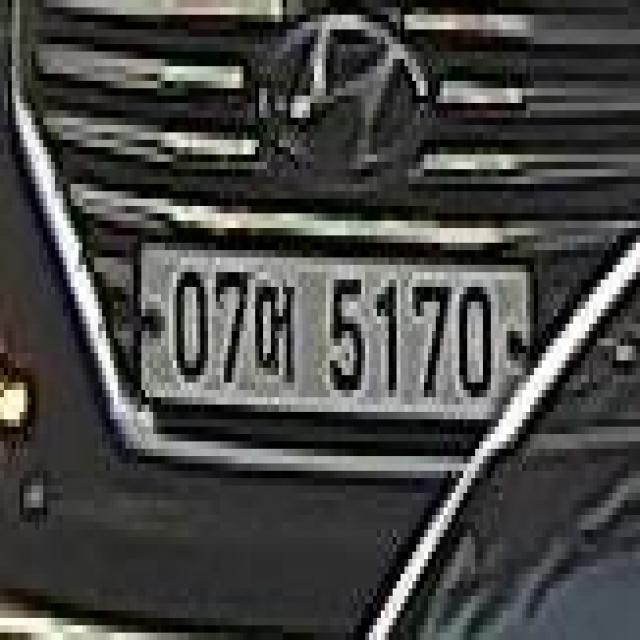illegal_plate: (131, 227, 533, 455)
